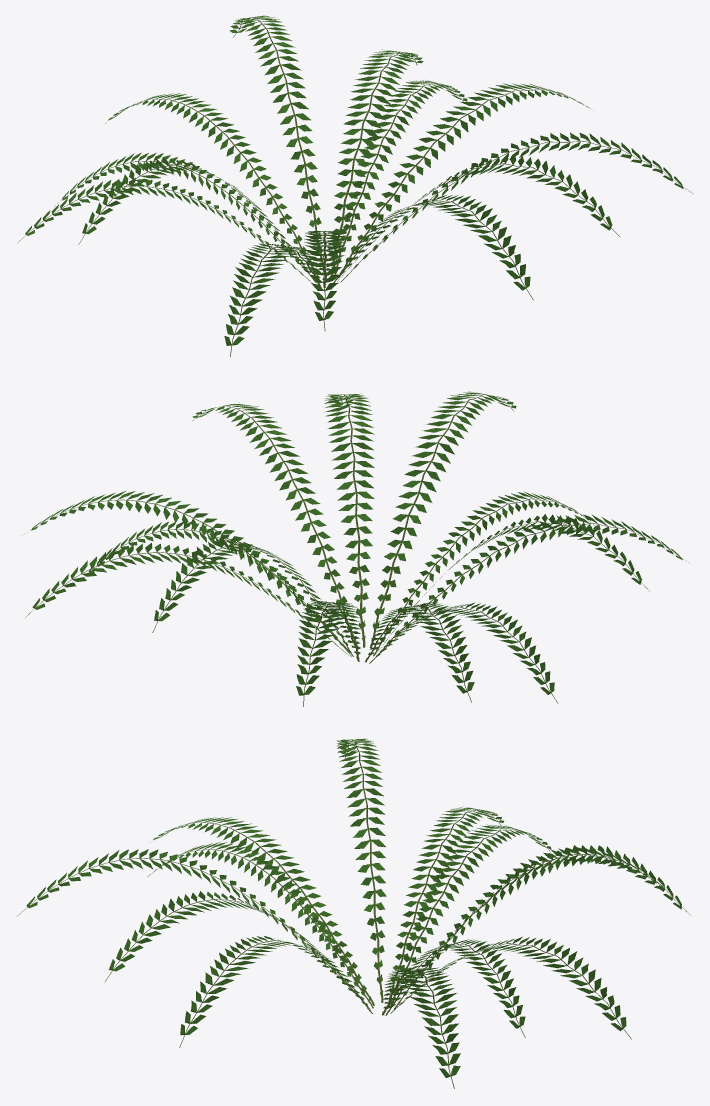
Rendered from fern.glb.
3 views of the same model, one above another, from view 1: azimuth 30°, elevation 25°; view 2: azimuth 150°, elevation 25°; view 3: azimuth 270°, elevation 25° (orthographic). The views are drawn at different scales.
Parts seen in each view (by area): view 1: Fern; view 2: Fern; view 3: Fern.
Part boxes in pixels (x1,y1,x2,y2): Fern: (17, 15, 693, 357); Fern: (21, 391, 688, 706); Fern: (17, 738, 690, 1088).
Size of the model in its own units: 1.98 by 0.6146 by 1.98.
1 material, 1 textured.
